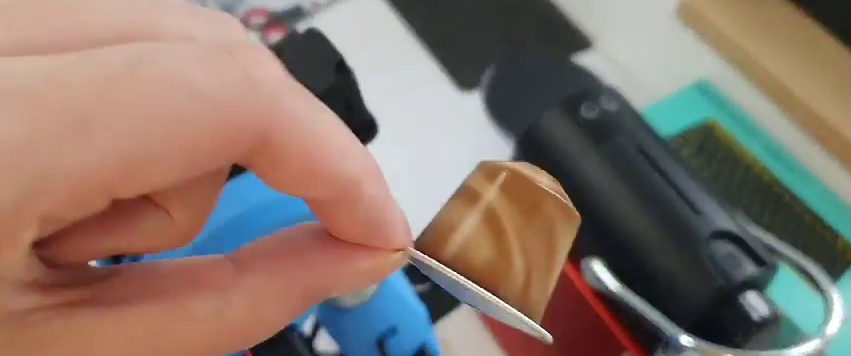capsule_12: (403, 153, 579, 346)
